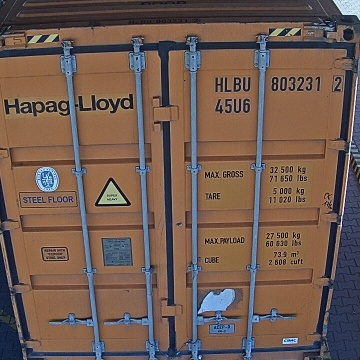serial_id: (216, 76, 343, 92)
